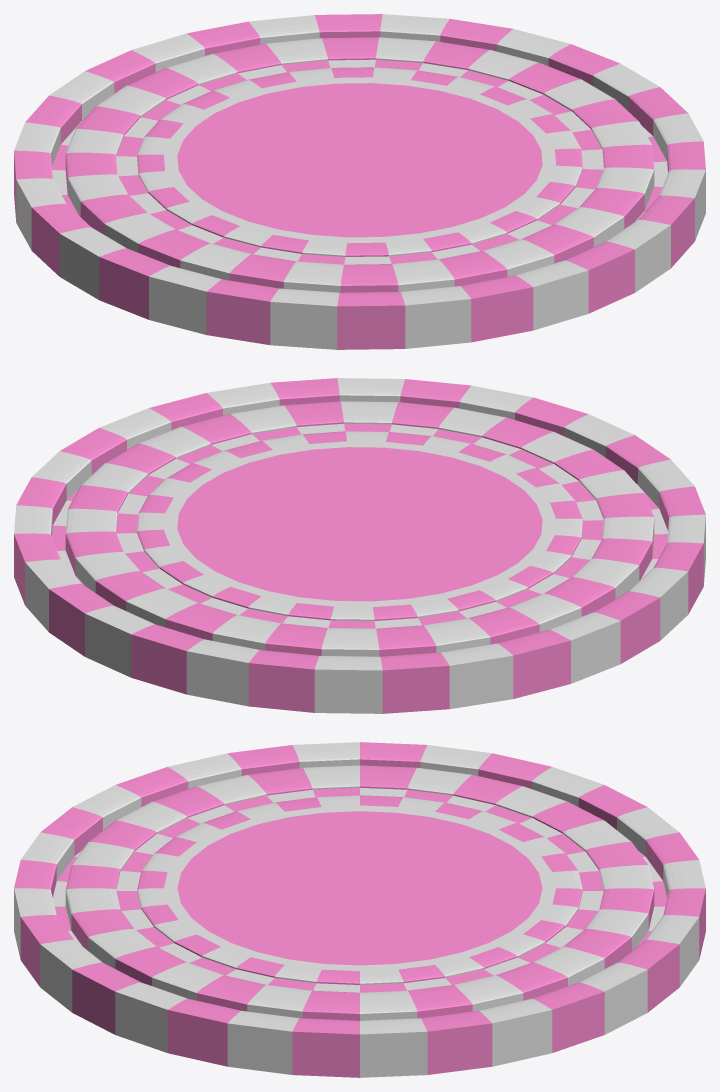
Rendered from letitride5.glb.
3 renders of one model, top to bottom at view 1: azimuth 30°, elevation 25°; view 2: azimuth 150°, elevation 25°; view 3: azimuth 270°, elevation 25°, orthographic.
Parts seen in each view (by area): view 1: Cylinder; view 2: Cylinder; view 3: Cylinder.
Boxes of the visible parts, <box> form: Cylinder: <box>14,14,705,349</box>; Cylinder: <box>14,378,705,713</box>; Cylinder: <box>14,742,705,1077</box>.
Bounding box in the file's own units: 2 × 0.1382 × 2.
